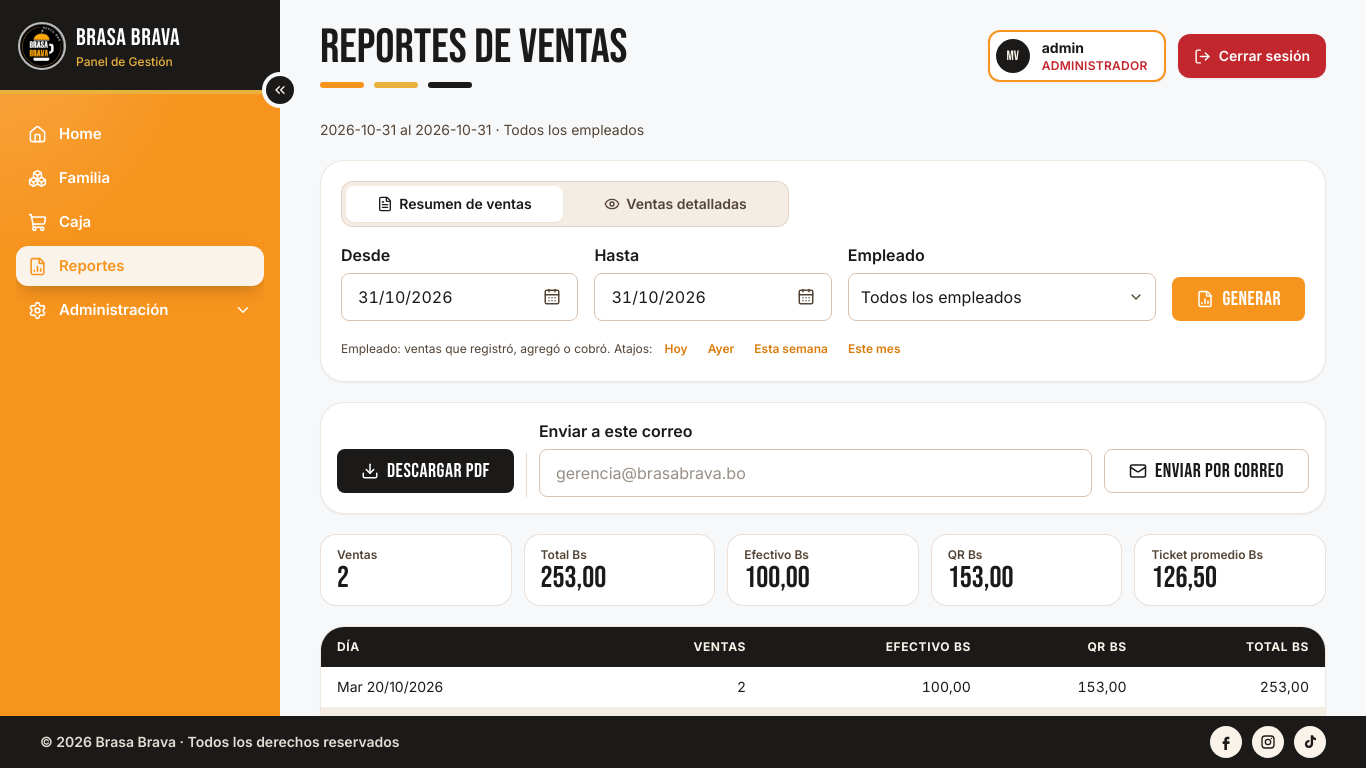
Test: Reportes de ventas › descarga el PDF y lo envía al correo escrito
Check: the element named "Totales del período" is shown, box [320,534,1326,606]
Click the button "Descargar PDF" at (425, 471), box [337,449,514,493]
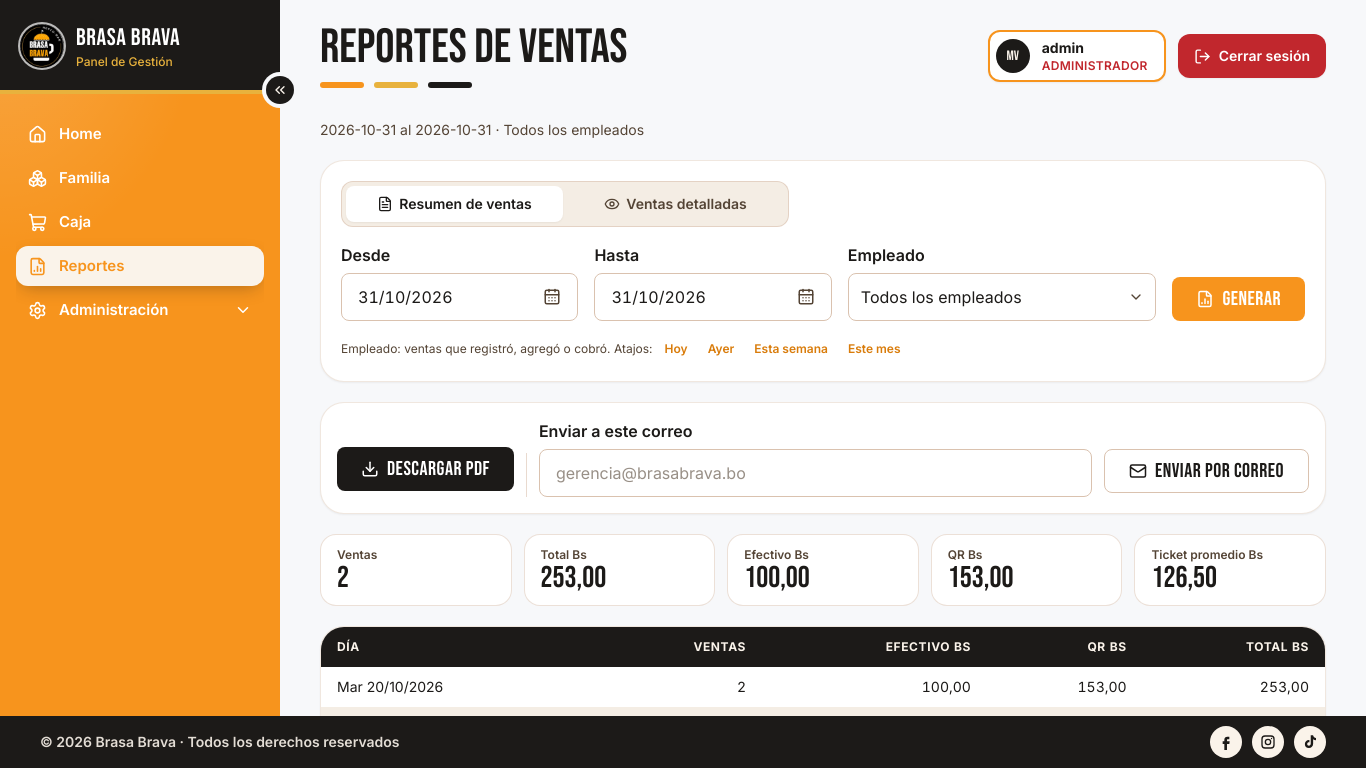
Click the button "Enviar por correo" at (1206, 471), box [1104,449,1309,493]
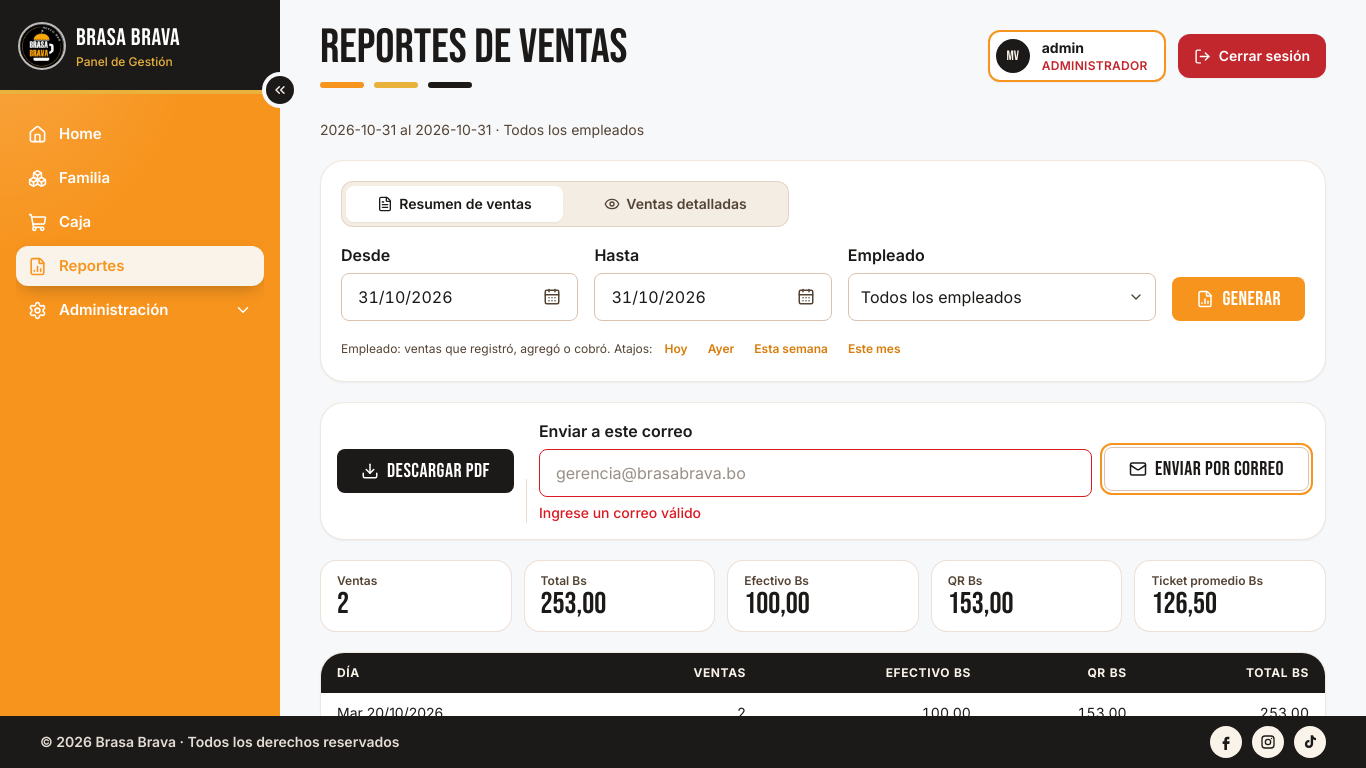
Check: the text "Ingrese un correo válido" is shown, box [539,504,701,521]
Type "Gerencia@BrasaBrava.bo" into the field labelled "Enviar a este correo" at (815, 473), box [539,449,1092,497]
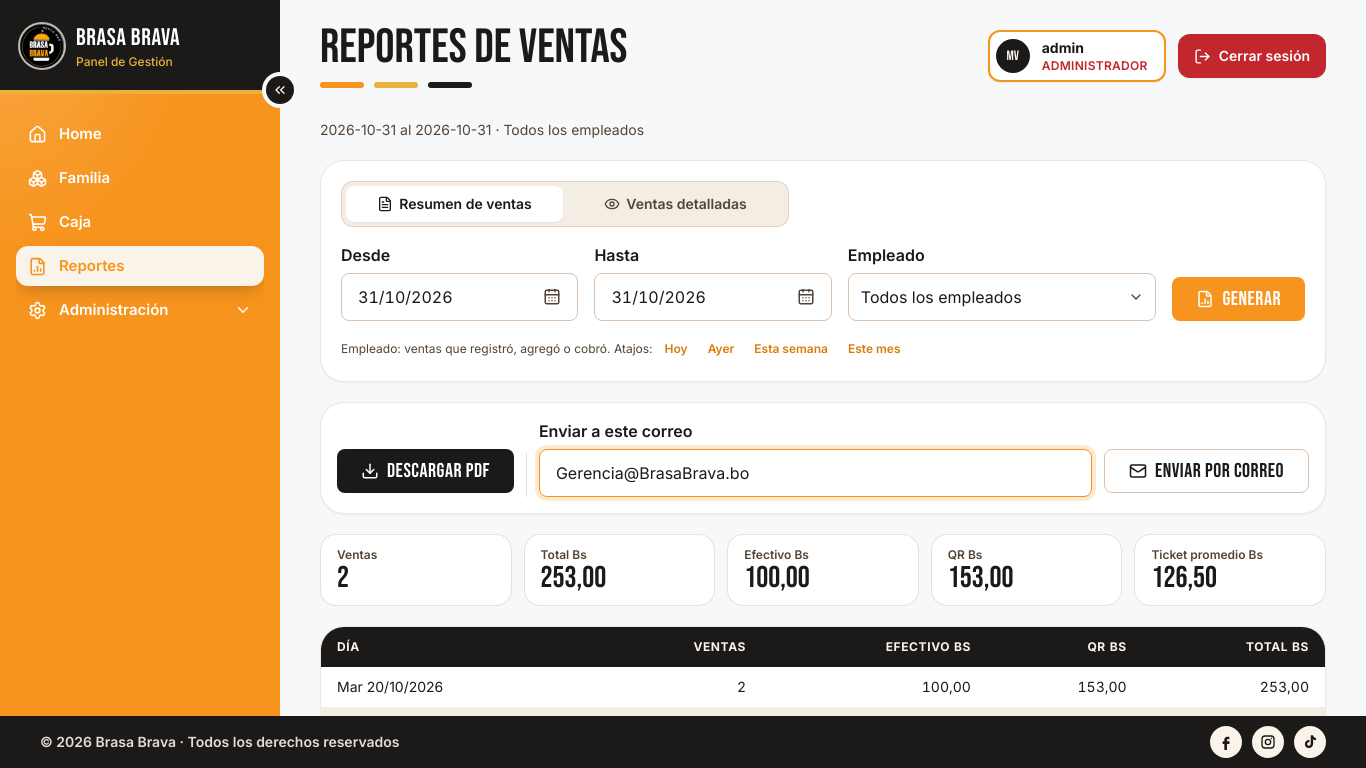
Click the button "Enviar por correo" at (1206, 471), box [1104,449,1309,493]
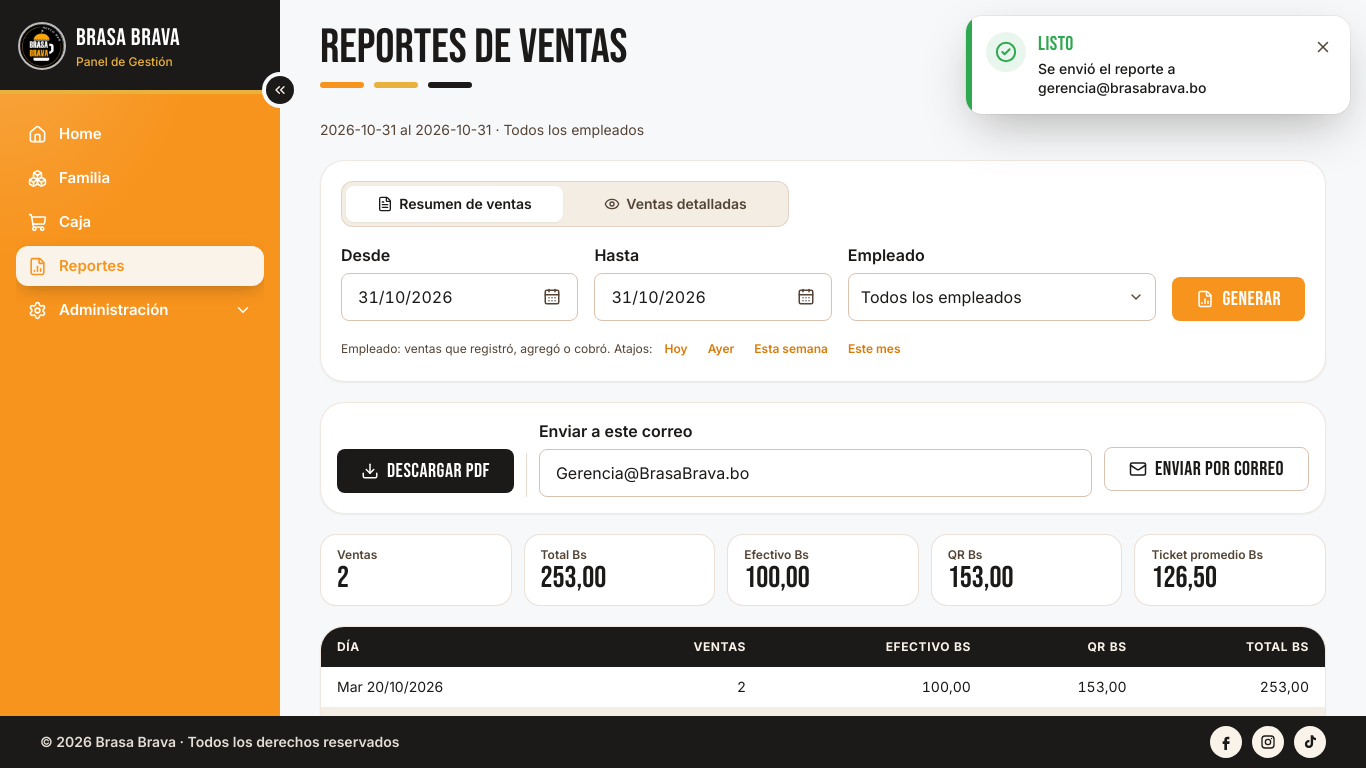
Check: the text "Se envió el reporte a gerencia@brasabrava.bo" is shown, box [1038,60,1206,96]
